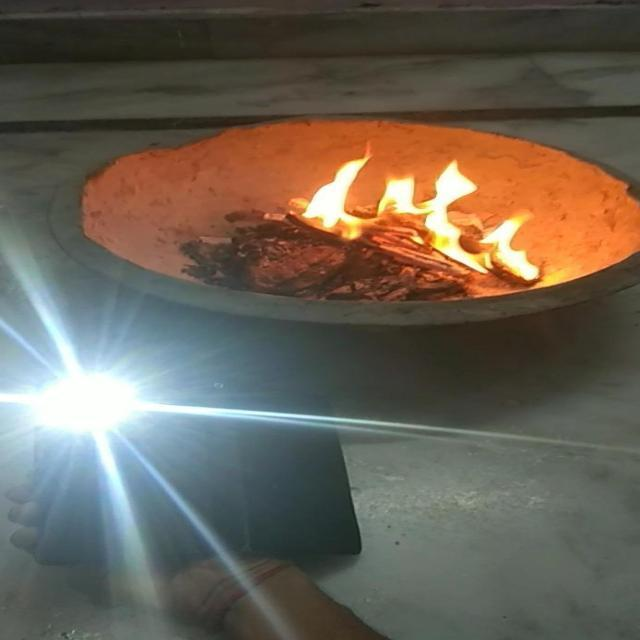smoke: (378, 157, 488, 276), (298, 148, 372, 231), (478, 208, 544, 283)
